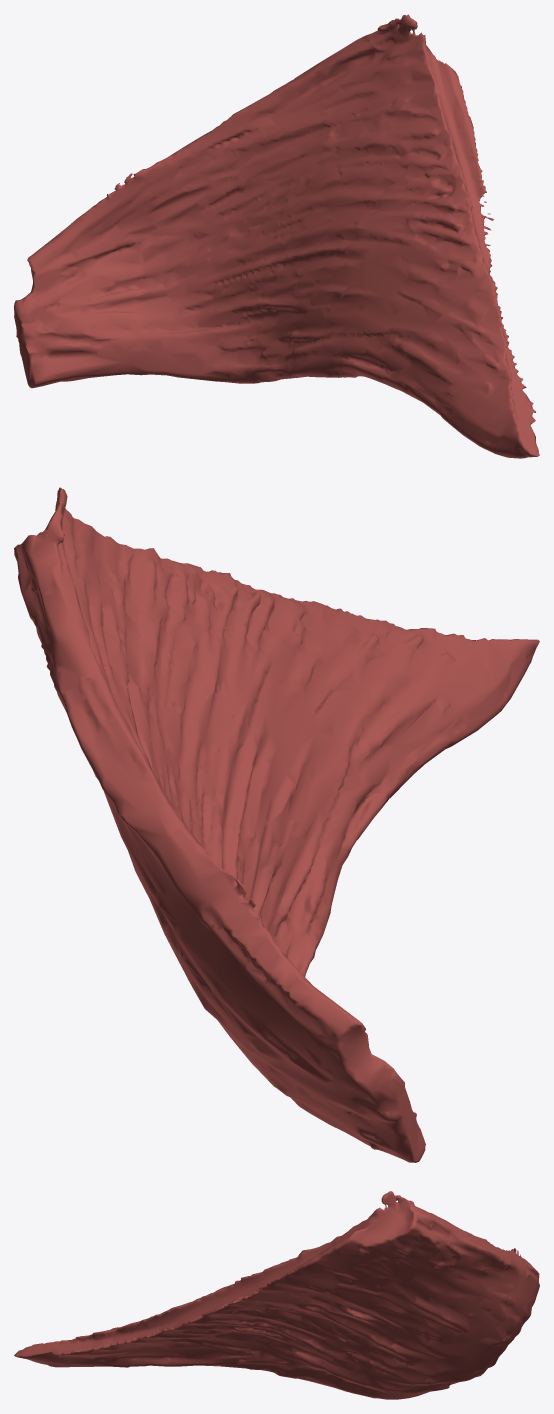
Rendered from FMA45859.glb.
The picture shows the model from 3 angles, top to bottom: view 1: azimuth 30°, elevation 25°; view 2: azimuth 150°, elevation 25°; view 3: azimuth 270°, elevation 25°; orthographic projection. The views are drawn at different scales.
Visible parts, largest first — view 1: FMA45859; view 2: FMA45859; view 3: FMA45859.
Boxes of the visible parts, x1=… form: FMA45859: x1=14, y1=14, x2=539, y2=458; FMA45859: x1=14, y1=487, x2=539, y2=1162; FMA45859: x1=14, y1=1191, x2=539, y2=1399.
Size of the model in its own units: 0.0445 by 0.0434 by 0.0733.
